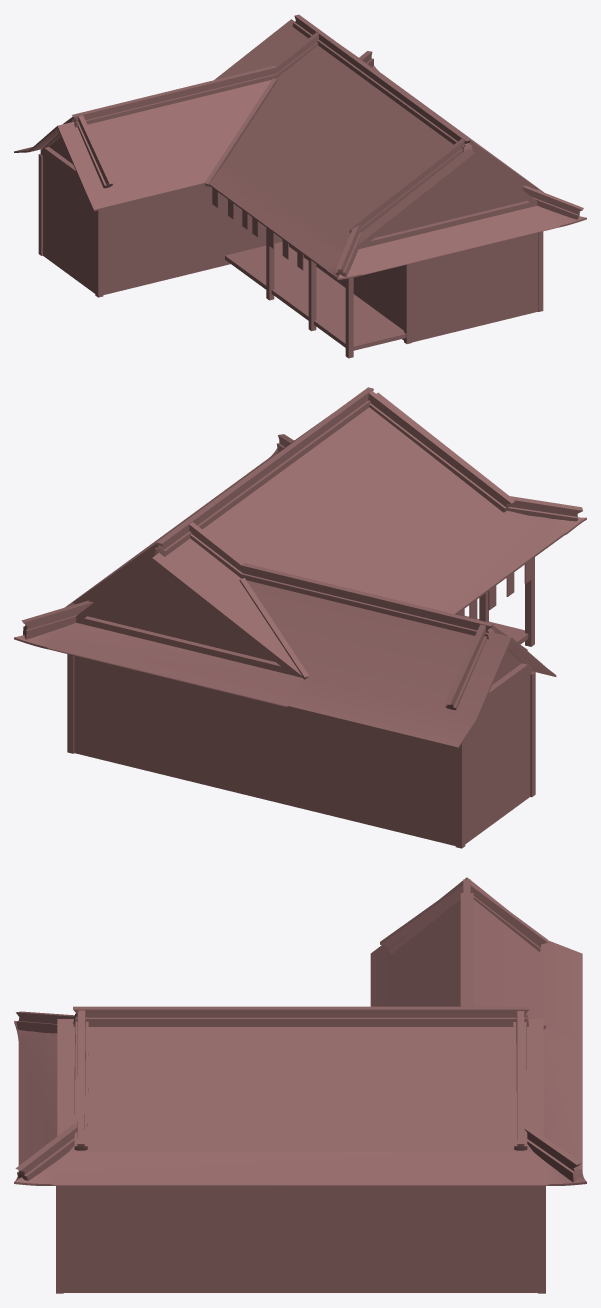
The model's file is dom4.fbx.
The picture shows the model from 3 angles, top to bottom: view 1: azimuth 30°, elevation 25°; view 2: azimuth 150°, elevation 25°; view 3: azimuth 270°, elevation 25°; orthographic projection. The views are drawn at different scales.
Parts seen in each view (by area): view 1: pCube247; view 2: pCube247; view 3: pCube247.
Part boxes in pixels (x1=…): pCube247: x1=14, y1=14, x2=586, y2=358; pCube247: x1=14, y1=387, x2=586, y2=848; pCube247: x1=14, y1=877, x2=586, y2=1293.
Bounding box in the file's own units: 90.34 × 43.79 × 94.23.
